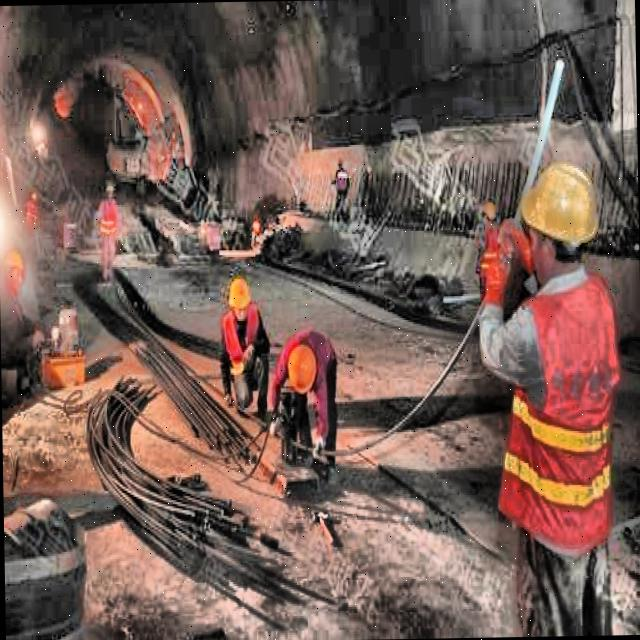helmet: (517, 157, 604, 280), (278, 336, 324, 400), (0, 241, 31, 306), (224, 274, 253, 320), (479, 200, 496, 227)
